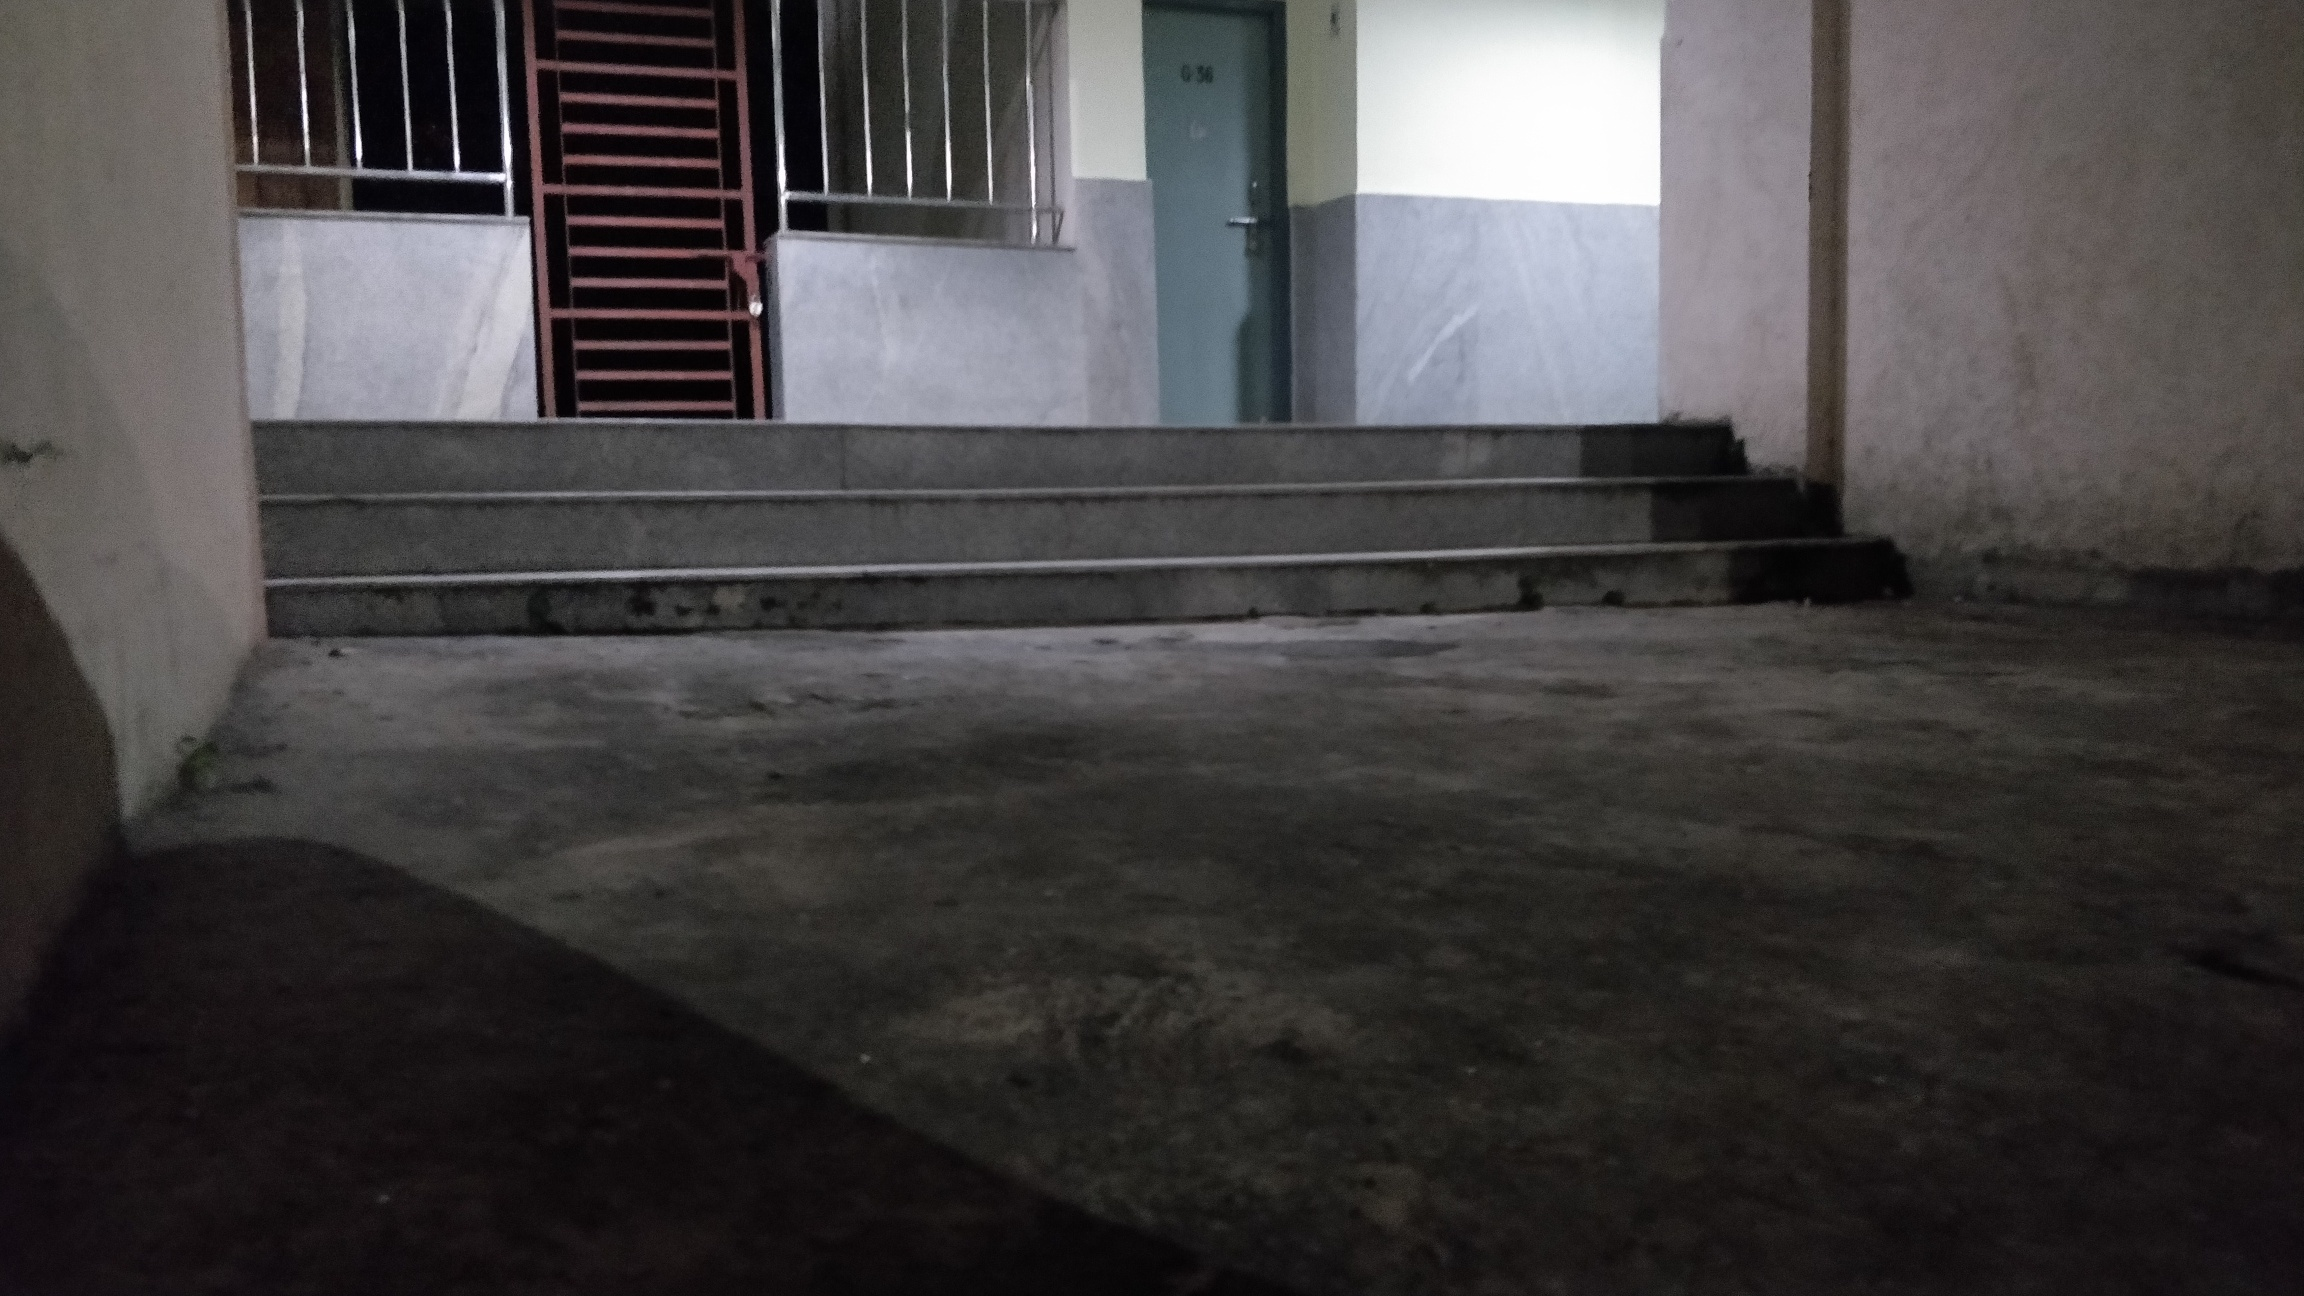stairs_up: (263, 400, 1869, 617)
